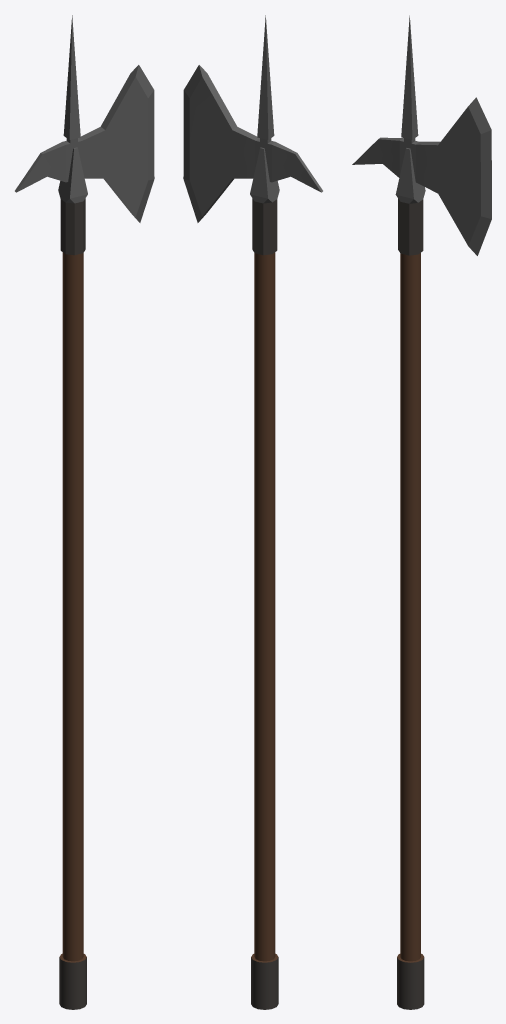
Rendered from Halberd.glb.
The picture shows the model from 3 angles, left to right: view 1: azimuth 30°, elevation 25°; view 2: azimuth 150°, elevation 25°; view 3: azimuth 330°, elevation 25°; orthographic projection.
Parts seen in each view (by area): view 1: Halberd; view 2: Halberd; view 3: Halberd.
Part boxes in pixels (<box>): Halberd: <box>15,15,154,1009</box>; Halberd: <box>183,15,322,1009</box>; Halberd: <box>352,15,491,1009</box>.
Bounding box in the file's own units: 0.2605 × 1.77 × 0.0446.
Materials: 1 (1 with a texture image).
